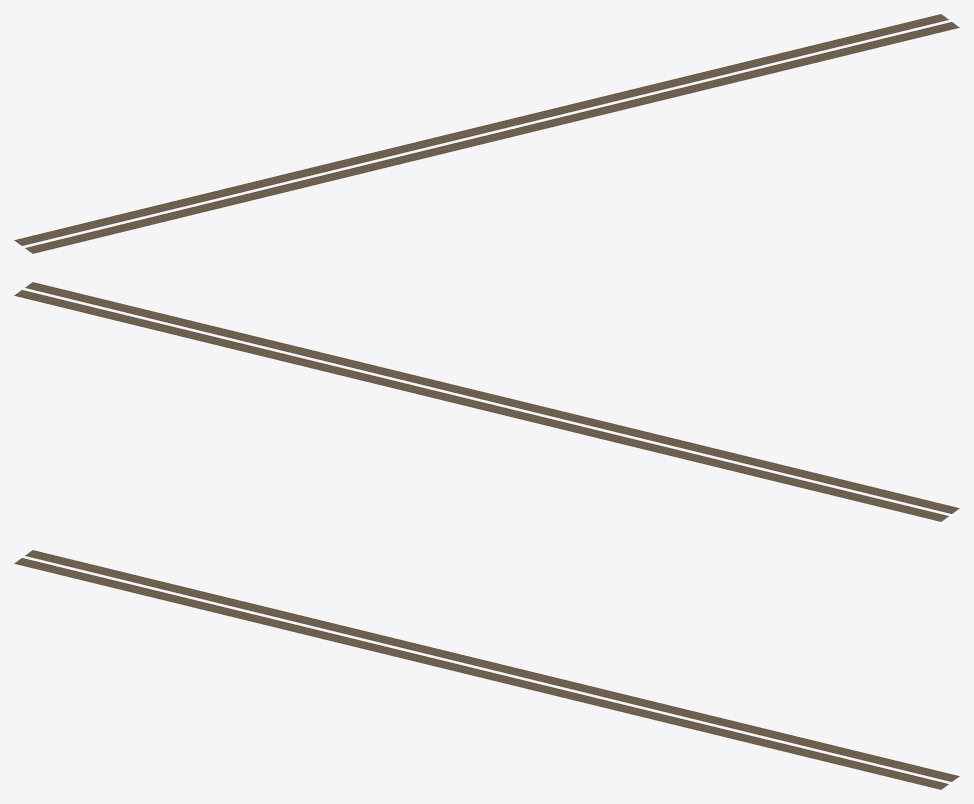
File: kd_stage_135b75_4_3_bounded_portal.glb
3 renders of one model, top to bottom at view 1: azimuth 30°, elevation 25°; view 2: azimuth 150°, elevation 25°; view 3: azimuth 330°, elevation 25°, orthographic.
Visible parts, largest first — view 1: kd_stage_135b75_4_3_bounded_portal; view 2: kd_stage_135b75_4_3_bounded_portal; view 3: kd_stage_135b75_4_3_bounded_portal.
Boxes of the visible parts, left/top/right/bottom form: kd_stage_135b75_4_3_bounded_portal: left=14, top=14, right=959, bottom=253; kd_stage_135b75_4_3_bounded_portal: left=14, top=282, right=959, bottom=521; kd_stage_135b75_4_3_bounded_portal: left=14, top=550, right=959, bottom=789.
Bounding box in the file's own units: 2 × 5.19e-06 × 0.07.
1 material, 1 textured.
